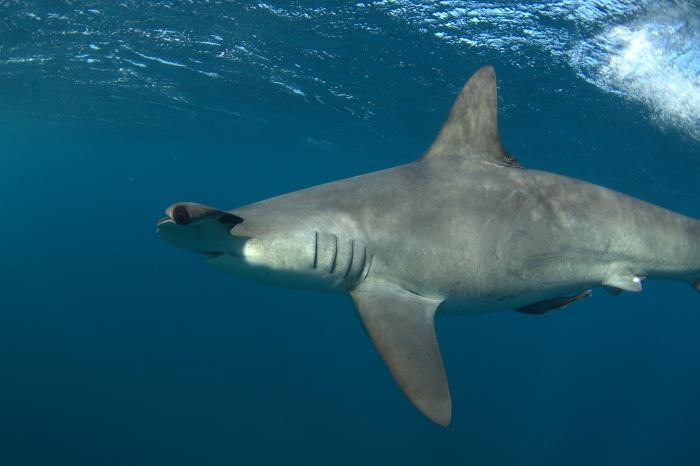Hammer: (136, 54, 700, 428)
